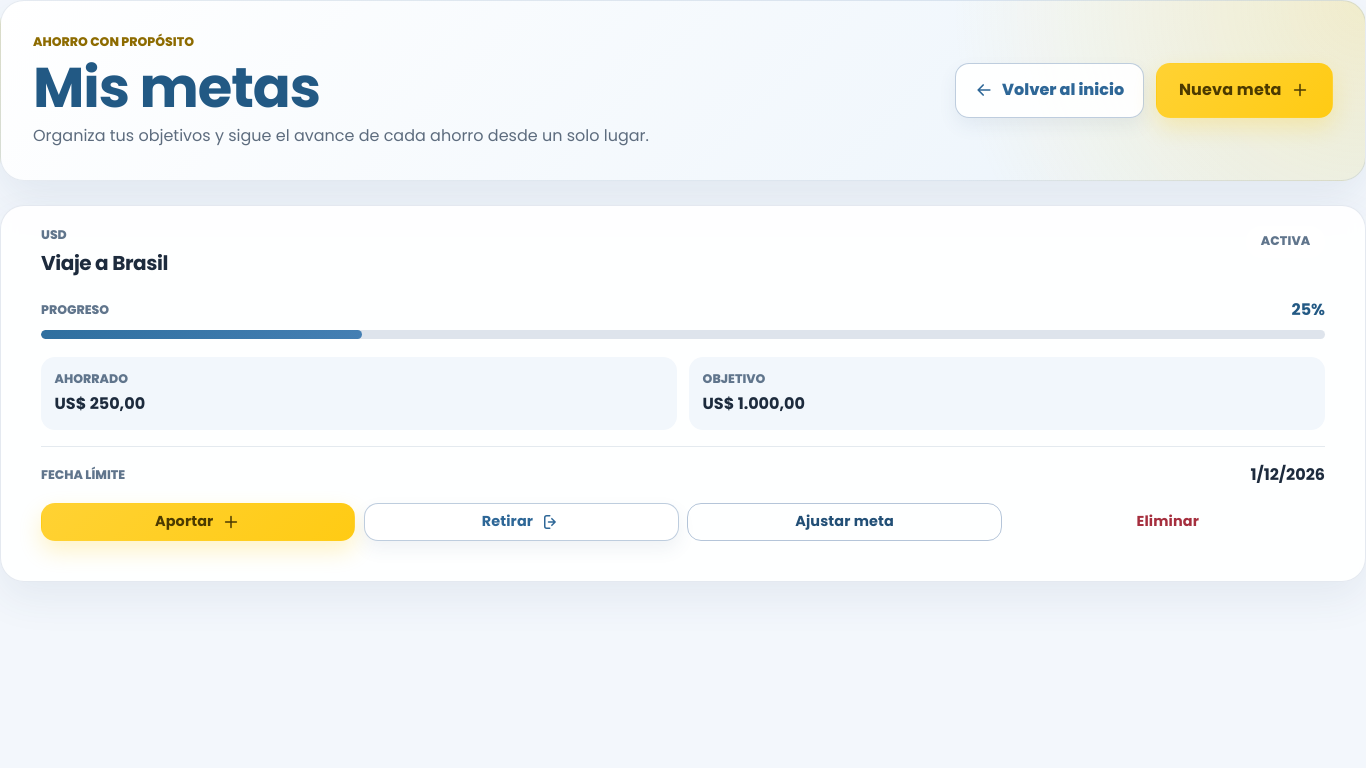
Test: GoalsPage › opens the contribute modal with target amount and available balance
This screenshot has width=1366, height=768.
Expected: the heading "Viaje a Brasil" is shown, left=41, top=248, right=168, bottom=278
Step 1. Click the button "Aportar" → (198, 522), box left=41, top=503, right=355, bottom=541
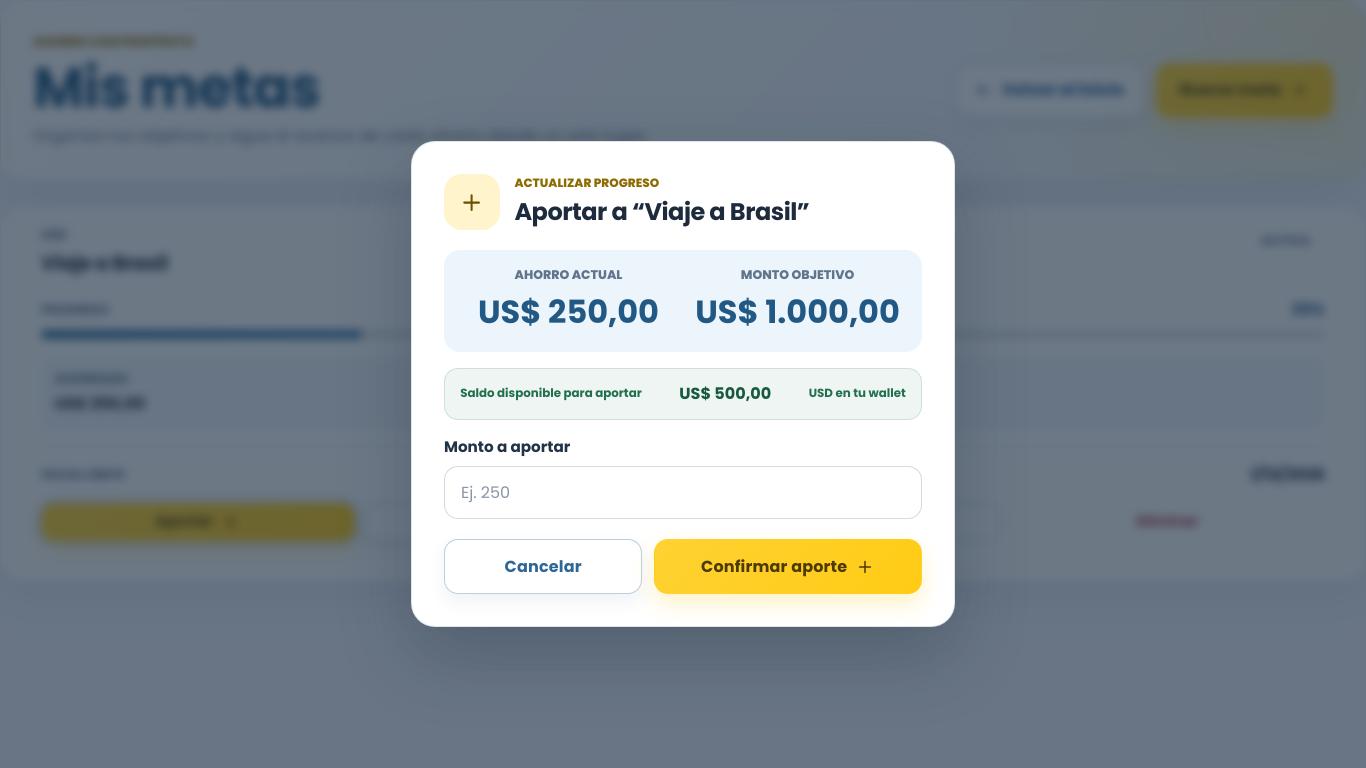
Expected: the heading "Aportar a “Viaje a Brasil”" is shown, left=514, top=194, right=809, bottom=230
Expected: the text "Monto objetivo" is shown, left=741, top=266, right=854, bottom=284
Expected: the text "Saldo disponible para aportar" is shown, left=460, top=385, right=642, bottom=403
